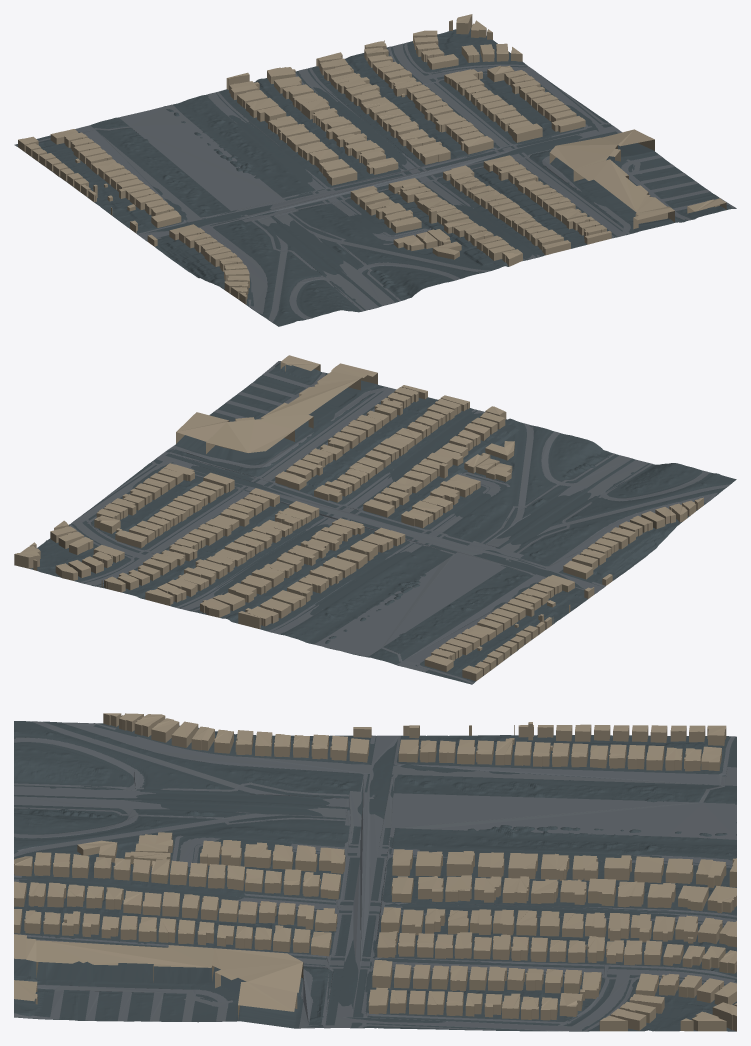
The model's file is epsg26910-1418-10875.lod0.glb.
The picture shows the model from 3 angles, top to bottom: view 1: azimuth 30°, elevation 25°; view 2: azimuth 150°, elevation 25°; view 3: azimuth 270°, elevation 25°; orthographic projection. The views are drawn at different scales.
Parts seen in each view (by area): view 1: epsg26910-1418-10875-lod0; view 2: epsg26910-1418-10875-lod0; view 3: epsg26910-1418-10875-lod0.
Boxes of the visible parts, left/top/right/bottom form: epsg26910-1418-10875-lod0: left=14, top=14, right=736, bottom=326; epsg26910-1418-10875-lod0: left=14, top=355, right=736, bottom=684; epsg26910-1418-10875-lod0: left=14, top=713, right=736, bottom=1031.
Bounding box in the file's own units: 384 × 24.84 × 384.
